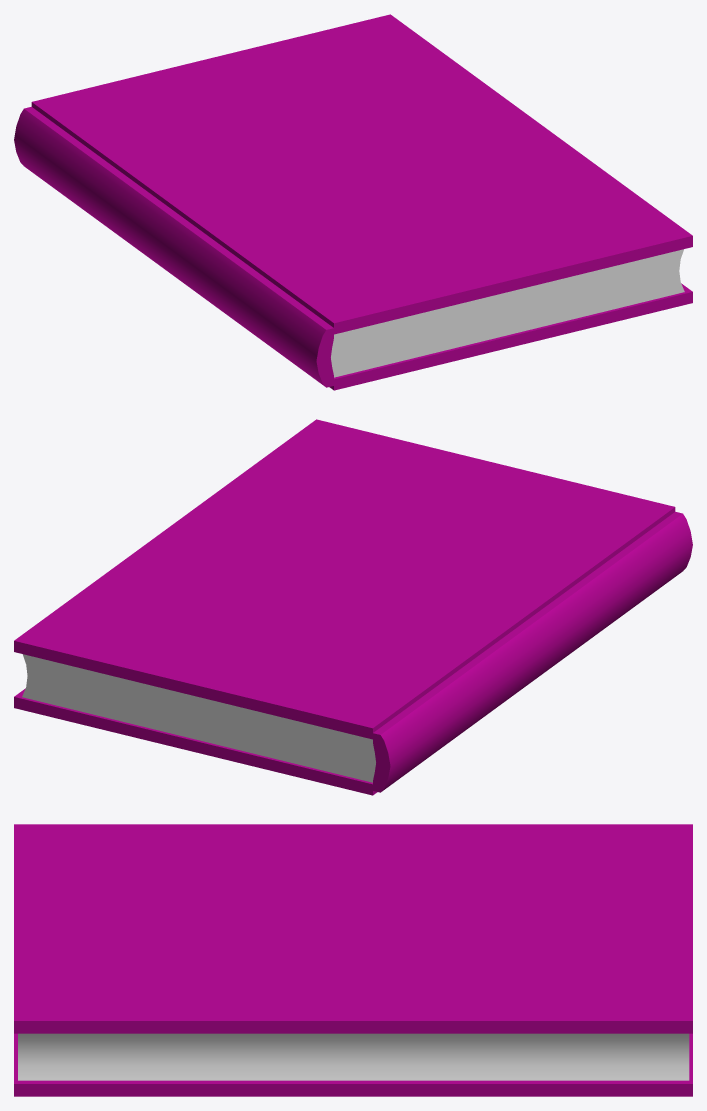
File: PurpleBook.fbx
3 renders of one model, top to bottom at view 1: azimuth 30°, elevation 25°; view 2: azimuth 150°, elevation 25°; view 3: azimuth 270°, elevation 25°, orthographic. The views are drawn at different scales.
Visible parts, largest first — view 1: pCube1.012, pCube1.013; view 2: pCube1.012, pCube1.013; view 3: pCube1.012, pCube1.013.
Boxes of the visible parts, left/top/right/bottom form: pCube1.012: left=14, top=14, right=692, bottom=390; pCube1.013: left=331, top=249, right=684, bottom=377; pCube1.012: left=14, top=419, right=692, bottom=795; pCube1.013: left=22, top=654, right=375, bottom=782; pCube1.012: left=14, top=824, right=692, bottom=1096; pCube1.013: left=18, top=1033, right=689, bottom=1080.
Size of the model in its own units: 176 by 30 by 244.
